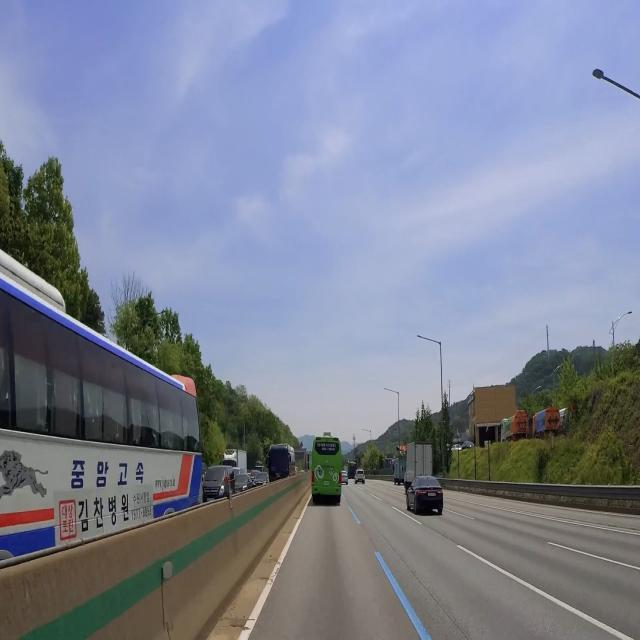car: (322, 477, 331, 491), (425, 492, 440, 499)
